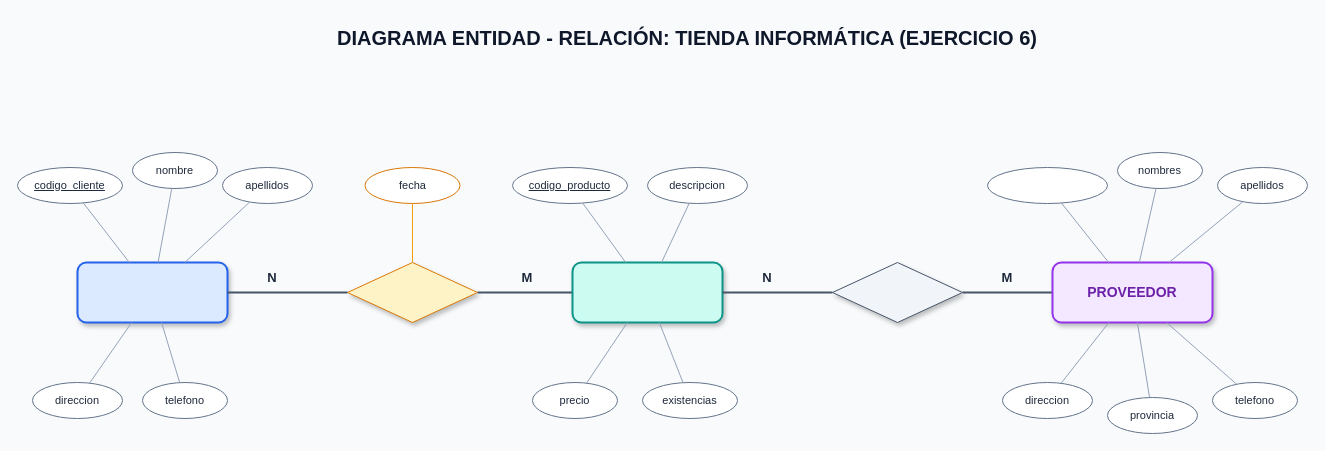
This 1325x451 diagram has some shape labels left out. Each missing label, with the centre of its shape:
CLIENTE: [153,293]
codigo_proveedor: [1047,185]
COMPRA: [413,294]
PRODUCTO: [648,293]
SUMINISTRA: [898,294]
